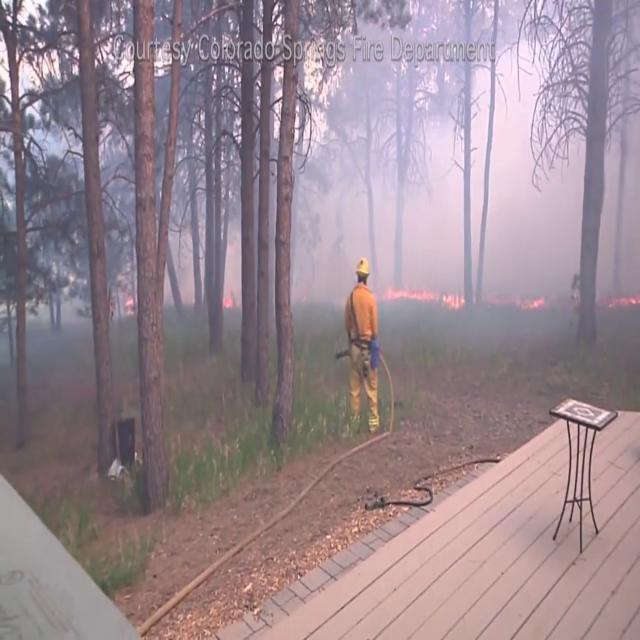Smoke: (252, 1, 640, 395)
